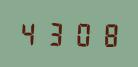eight: (93, 20, 117, 47)
four: (18, 19, 42, 46)
three: (43, 19, 67, 46)
zero: (68, 19, 92, 47)
